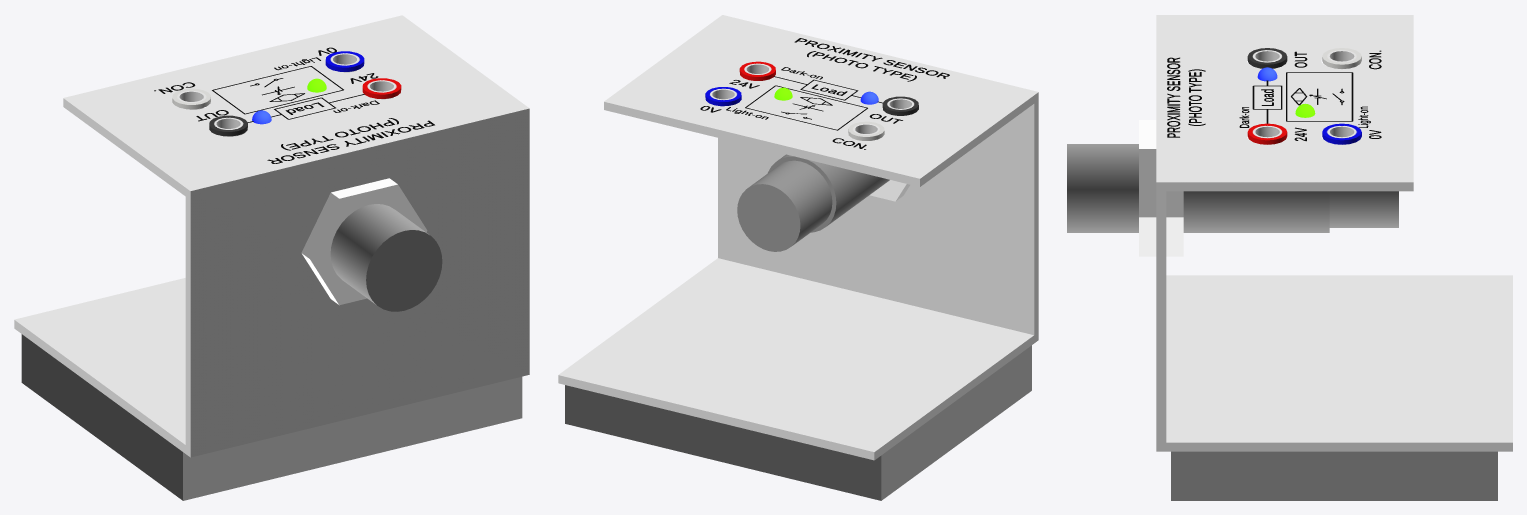
The model's file is photo-sensor-npn.glb.
The picture shows the model from 3 angles, left to right: view 1: azimuth 30°, elevation 25°; view 2: azimuth 150°, elevation 25°; view 3: azimuth 270°, elevation 25°; orthographic projection. The views are drawn at different scales.
Parts seen in each view (by area): view 1: Base__go1093__mesh1, Base__go1093__mesh0, Base__go1093__mesh7, Base__go1093__mesh6, Sticker__go1123__mesh0, Base__go1093__mesh2, Base__go1093__mesh3, Base__go1093__mesh4, Base__go1093__mesh5; view 2: Base__go1093__mesh1, Base__go1093__mesh0, Base__go1093__mesh7, Sticker__go1123__mesh0, Base__go1093__mesh2, Base__go1093__mesh5, Base__go1093__mesh3, Base__go1093__mesh4, Base__go1093__mesh6; view 3: Base__go1093__mesh1, Base__go1093__mesh0, Base__go1093__mesh7, Base__go1093__mesh6, Sticker__go1123__mesh0, Base__go1093__mesh4, Base__go1093__mesh3, Base__go1093__mesh5, Base__go1093__mesh2.
Boxes of the visible parts, x1=… form: Base__go1093__mesh1: x1=14, y1=15, x2=529, y2=457; Base__go1093__mesh0: x1=21, y1=334, x2=522, y2=500; Base__go1093__mesh7: x1=241, y1=132, x2=442, y2=311; Base__go1093__mesh6: x1=301, y1=178, x2=427, y2=305; Sticker__go1123__mesh0: x1=154, y1=47, x2=434, y2=163; Base__go1093__mesh2: x1=209, y1=115, x2=247, y2=136; Base__go1093__mesh3: x1=325, y1=51, x2=364, y2=72; Base__go1093__mesh4: x1=362, y1=78, x2=401, y2=99; Base__go1093__mesh5: x1=172, y1=88, x2=210, y2=109; Base__go1093__mesh1: x1=558, y1=15, x2=1038, y2=460; Base__go1093__mesh0: x1=565, y1=345, x2=1031, y2=500; Base__go1093__mesh7: x1=737, y1=154, x2=889, y2=251; Sticker__go1123__mesh0: x1=700, y1=38, x2=949, y2=149; Base__go1093__mesh2: x1=882, y1=96, x2=918, y2=115; Base__go1093__mesh5: x1=848, y1=121, x2=884, y2=140; Base__go1093__mesh3: x1=705, y1=87, x2=741, y2=106; Base__go1093__mesh4: x1=739, y1=61, x2=775, y2=80; Base__go1093__mesh6: x1=870, y1=180, x2=909, y2=201; Base__go1093__mesh1: x1=1156, y1=15, x2=1512, y2=451; Base__go1093__mesh0: x1=1171, y1=451, x2=1497, y2=500; Base__go1093__mesh7: x1=1067, y1=144, x2=1398, y2=232; Base__go1093__mesh6: x1=1139, y1=120, x2=1183, y2=256; Sticker__go1123__mesh0: x1=1167, y1=50, x2=1381, y2=141; Base__go1093__mesh4: x1=1247, y1=123, x2=1287, y2=144; Base__go1093__mesh3: x1=1322, y1=123, x2=1361, y2=144; Base__go1093__mesh5: x1=1322, y1=48, x2=1361, y2=68; Base__go1093__mesh2: x1=1247, y1=48, x2=1287, y2=68.
Size of the model in its own units: 0.08 by 0.073 by 0.09.
Materials: 11 (6 with a texture image).
